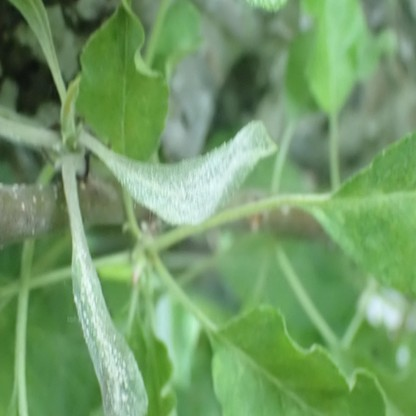powdery_mildew: (109, 120, 277, 225), (71, 229, 148, 416)
